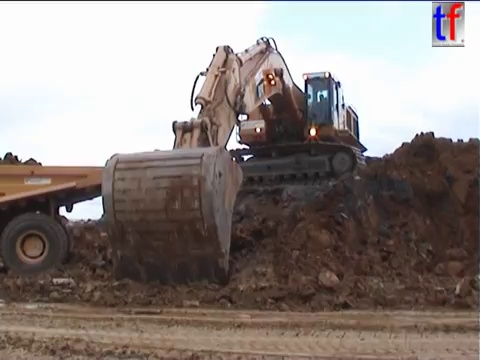excavator: (98, 34, 370, 290)
truck: (1, 159, 146, 280)
